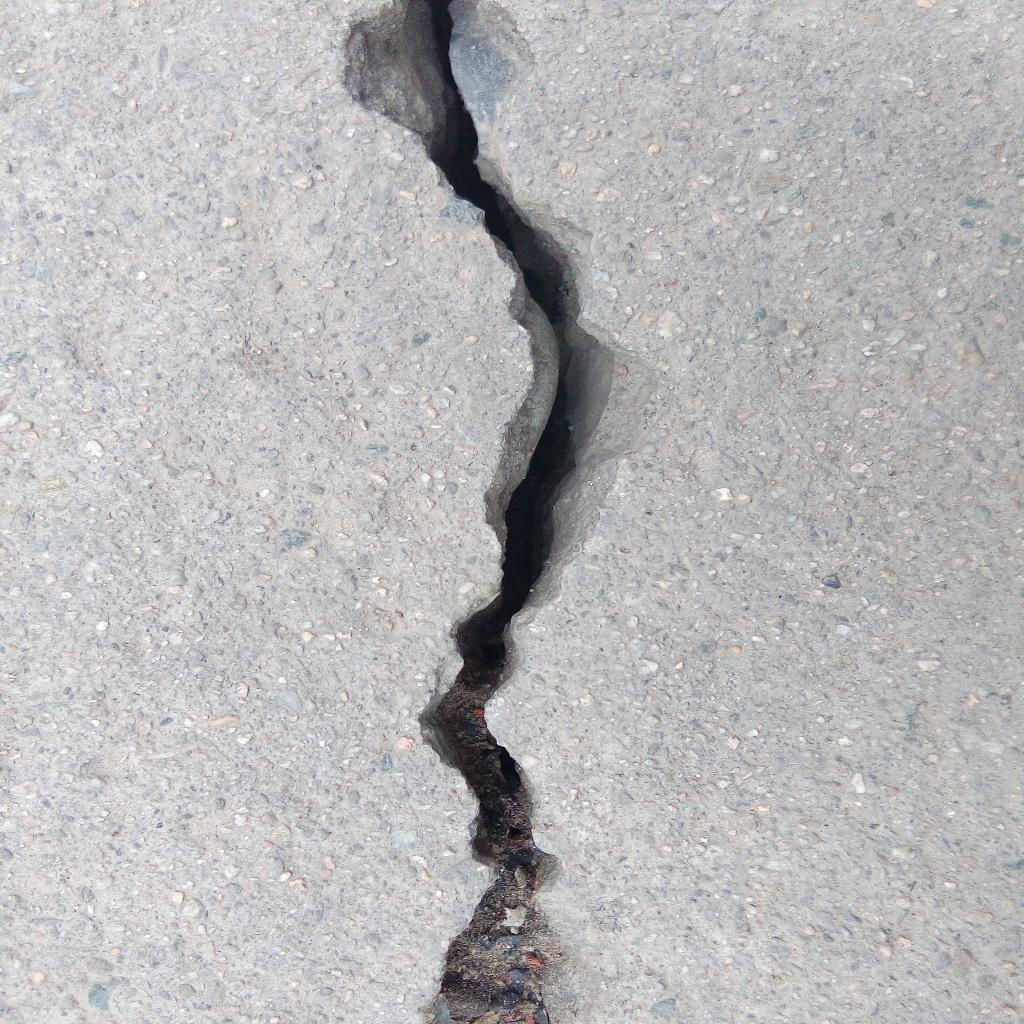Crack: (343, 1, 625, 1024)
